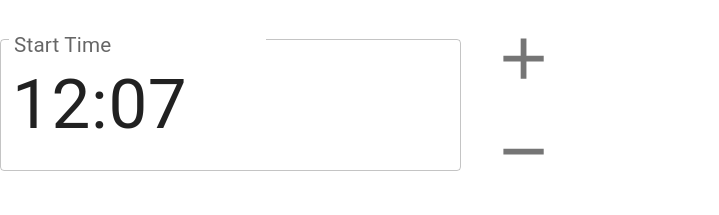
Test case: TimeInput component › shows both tooltips on hover
Hover over the button with test id "start-plus" at coordinates (523, 59), box [477,12,570,105]
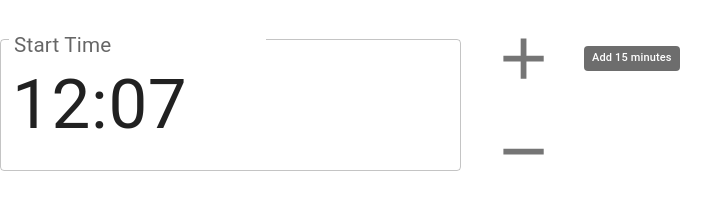
Now the text "Add 15 minutes" is shown, box [584,46,680,70]
Hover over the button with test id "start-minus" at coordinates (523, 152), box [477,105,570,198]
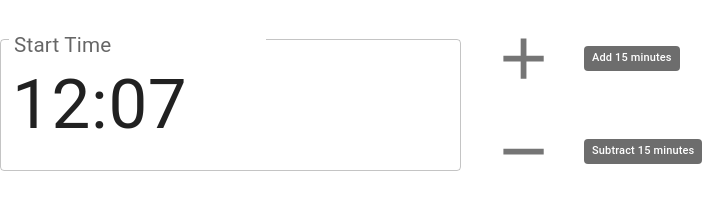
Now the text "Subtract 15 minutes" is shown, box [584,139,702,164]
